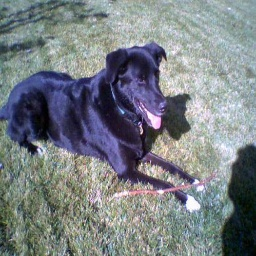dog: (4, 40, 201, 211)
